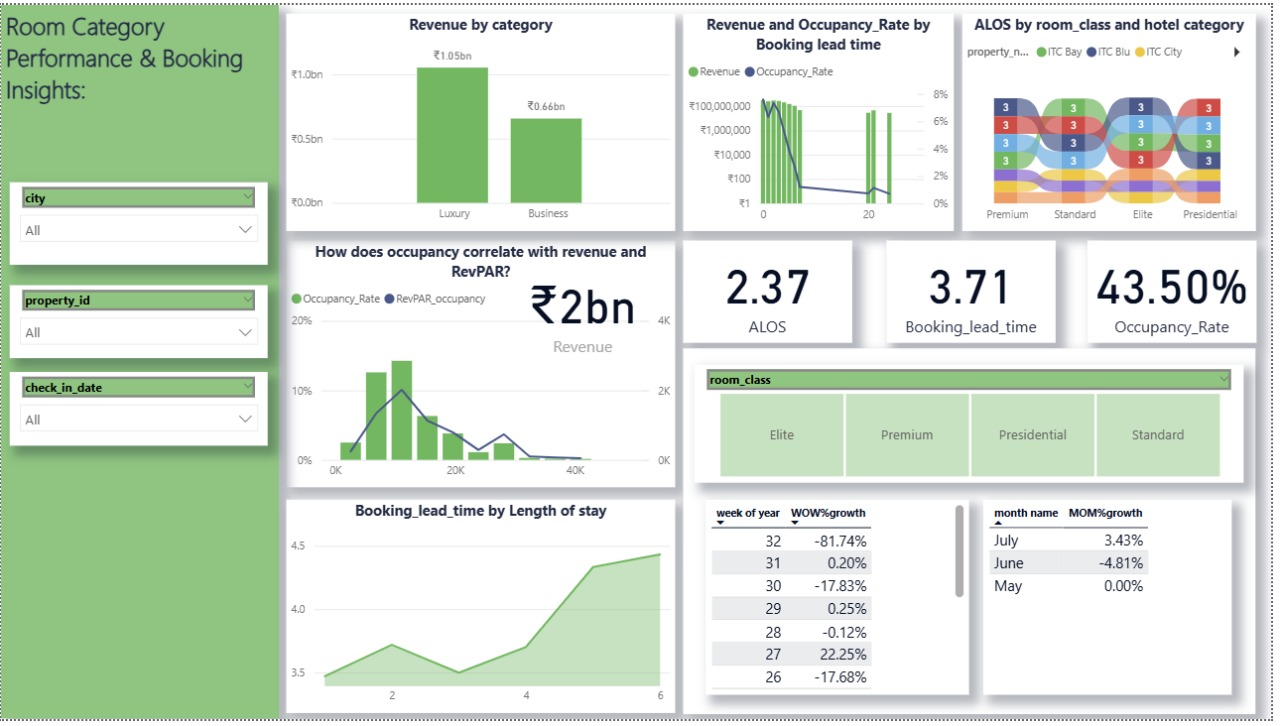

What the dashboard file says about the page in this screenshot:
{"tool":"powerbi","page":{"name":" Booking Insights","canvas":[1280,720],"ordinal":2},"visuals":[{"type":"textbox","box":[0,0,279.9,719.1],"z":0,"group":"g1"},{"type":"lineStackedColumnComboChart","title":"How does occupancy correlate with revenue and RevPAR?","fields":{"Category":["bookings.revenue_realized Group"],"Y":["Measures Table.Occupancy_Rate"],"Y2":["Measures Table.RevPAR_occupancy"]},"box":[287.4,237.6,391.9,248.8],"z":0},{"type":"actionButton","box":[0,0,100,40],"z":1000},{"type":"textbox","box":[688,345.9,576.8,368.6],"z":1000,"group":"g2"},{"type":"group","id":"g1","title":"Group 1","box":[0,0,279.9,719.1],"z":2000},{"type":"clusteredColumnChart","fields":{"Category":["hotels.category"],"Y":["Table.revenue"]},"box":[287.4,8.7,391.9,219],"z":3000},{"type":"lineStackedColumnComboChart","fields":{"Category":["bookings.Booking lead time"],"Y":["Measures Table.Revenue"],"Y2":["Measures Table.Occupancy_Rate"]},"box":[688,8.7,272.5,219],"z":4000},{"type":"card","fields":{"Values":["Table.ALOS"]},"box":[688,237.6,170.5,103.3],"z":5000},{"type":"slicer","fields":{"Values":["hotels.property_id"]},"box":[8.7,282.4,260,73.4],"z":6000},{"type":"ribbonChart","title":"ALOS by room_class and hotel category","fields":{"Category":["rooms.room_class"],"Y":["Measures Table.ALOS"],"Series":["hotels.property_name"]},"box":[969.2,8.7,296.1,219],"z":7000},{"type":"card","fields":{"Values":["Table.Booking_lead_time"]},"box":[892.1,237.6,170.5,103.3],"z":8000},{"type":"slicer","fields":{"Values":["rooms.room_class"]},"box":[698.7,362.6,553.8,119.4],"z":8000,"group":"g2"},{"type":"slicer","fields":{"Values":["hotels.city"]},"box":[8.7,179.2,260,83.4],"z":9000},{"type":"tableEx","fields":{"Values":["calendar.week of year","Table.WOW%growth"]},"box":[711,498.7,265.4,196.5],"z":10000,"group":"g2"},{"type":"areaChart","fields":{"Category":["bookings.Length of stay"],"Y":["Measures Table.Booking_lead_time"]},"box":[287.4,498.9,391.9,215.2],"z":10000},{"type":"card","fields":{"Values":["Table.revenue"]},"box":[517.6,262.5,138.1,93.3],"z":11000},{"type":"card","fields":{"Values":["Table.occupancy_rate"]},"box":[1094.9,237.6,170.5,103.3],"z":12000},{"type":"tableEx","fields":{"Values":["calendar.month name","Table.MOM%growth"]},"box":[990.2,498.7,250.1,196.5],"z":12000,"group":"g2"},{"type":"slicer","fields":{"Values":["bookings.check_in_date"]},"box":[8.7,369.5,260,74.7],"z":13000},{"type":"group","id":"g2","title":"Group 2","box":[688,345.9,577.3,368.3],"z":14000}]}

Visuals, with their boxes in screenshot pixels (x1, y1, x2, y2), scaled from the page's 1280x720 canvas onto the 1280x726 screenshot:
textbox: locate(0, 0, 280, 725)
"How does occupancy correlate with revenue and RevPAR?" lineStackedColumnComboChart: locate(287, 240, 679, 490)
actionButton: locate(0, 0, 100, 40)
textbox: locate(688, 349, 1265, 720)
"Group 1" group: locate(0, 0, 280, 725)
clusteredColumnChart - hotels.category x Table.revenue: locate(287, 9, 679, 230)
lineStackedColumnComboChart - bookings.Booking lead time x Measures Table.Revenue: locate(688, 9, 960, 230)
card - Table.ALOS: locate(688, 240, 858, 344)
slicer - hotels.property_id: locate(9, 285, 269, 359)
"ALOS by room_class and hotel category" ribbonChart: locate(969, 9, 1265, 230)
card - Table.Booking_lead_time: locate(892, 240, 1063, 344)
slicer - rooms.room_class: locate(699, 366, 1252, 486)
slicer - hotels.city: locate(9, 181, 269, 265)
tableEx - calendar.week of year x Table.WOW%growth: locate(711, 503, 976, 701)
areaChart - bookings.Length of stay x Measures Table.Booking_lead_time: locate(287, 503, 679, 720)
card - Table.revenue: locate(518, 265, 656, 359)
card - Table.occupancy_rate: locate(1095, 240, 1265, 344)
tableEx - calendar.month name x Table.MOM%growth: locate(990, 503, 1240, 701)
slicer - bookings.check_in_date: locate(9, 373, 269, 448)
"Group 2" group: locate(688, 349, 1265, 720)
